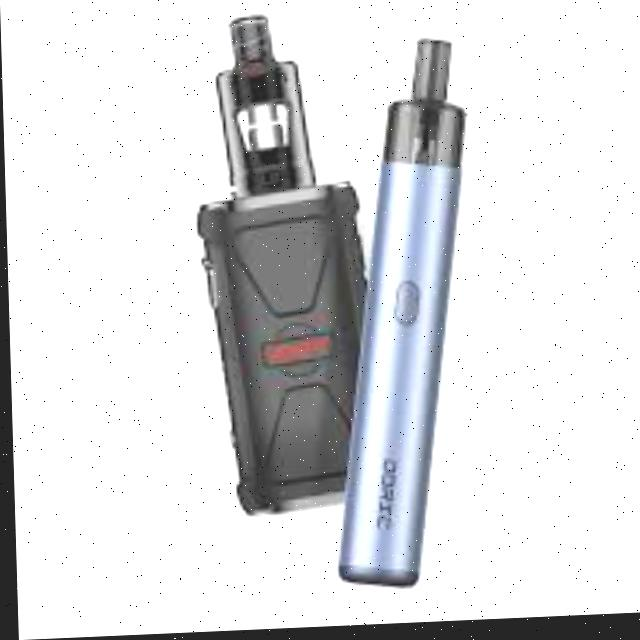vape: (189, 12, 372, 525), (321, 40, 481, 596)
